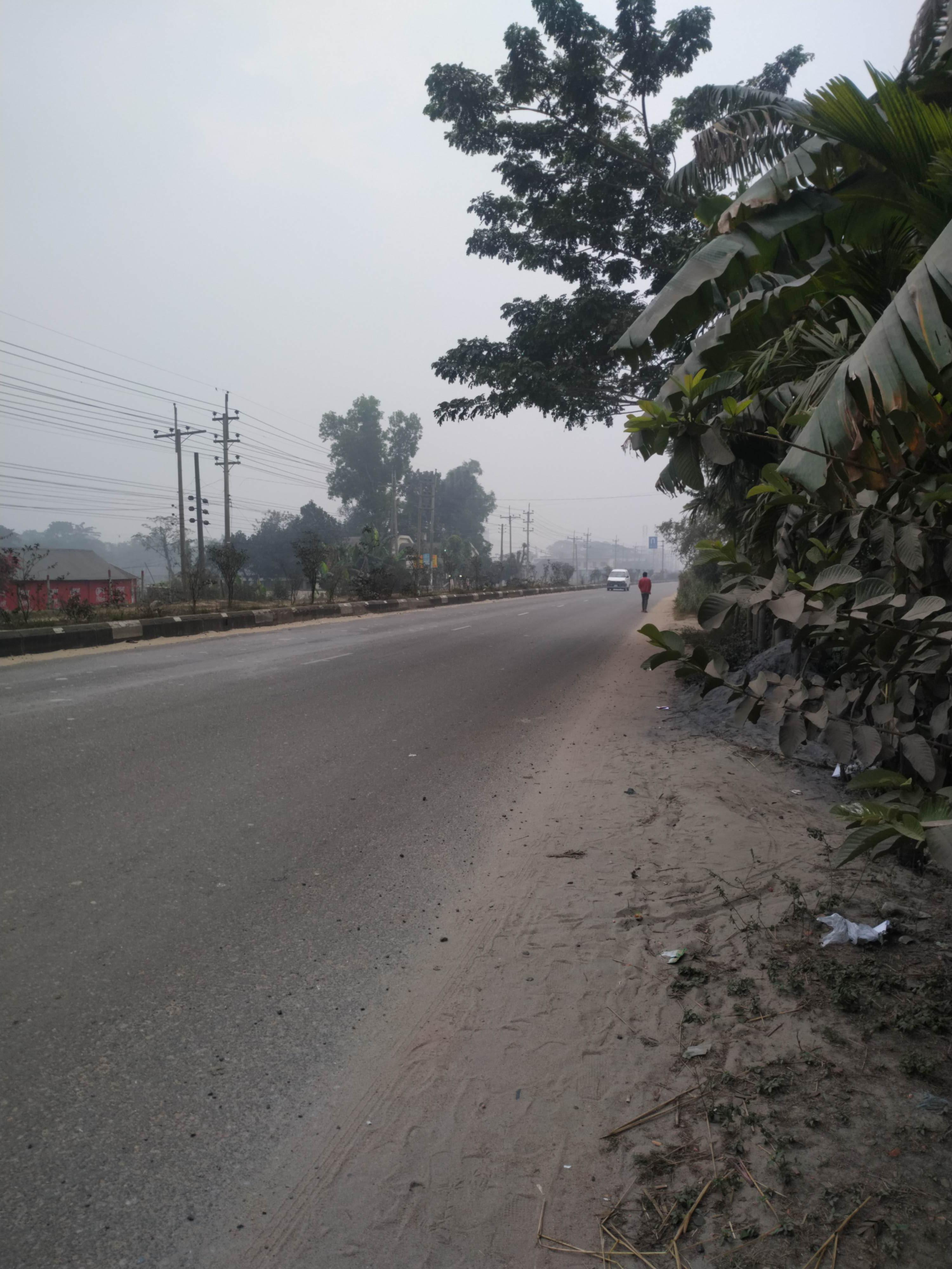Car: (592, 555, 636, 605)
